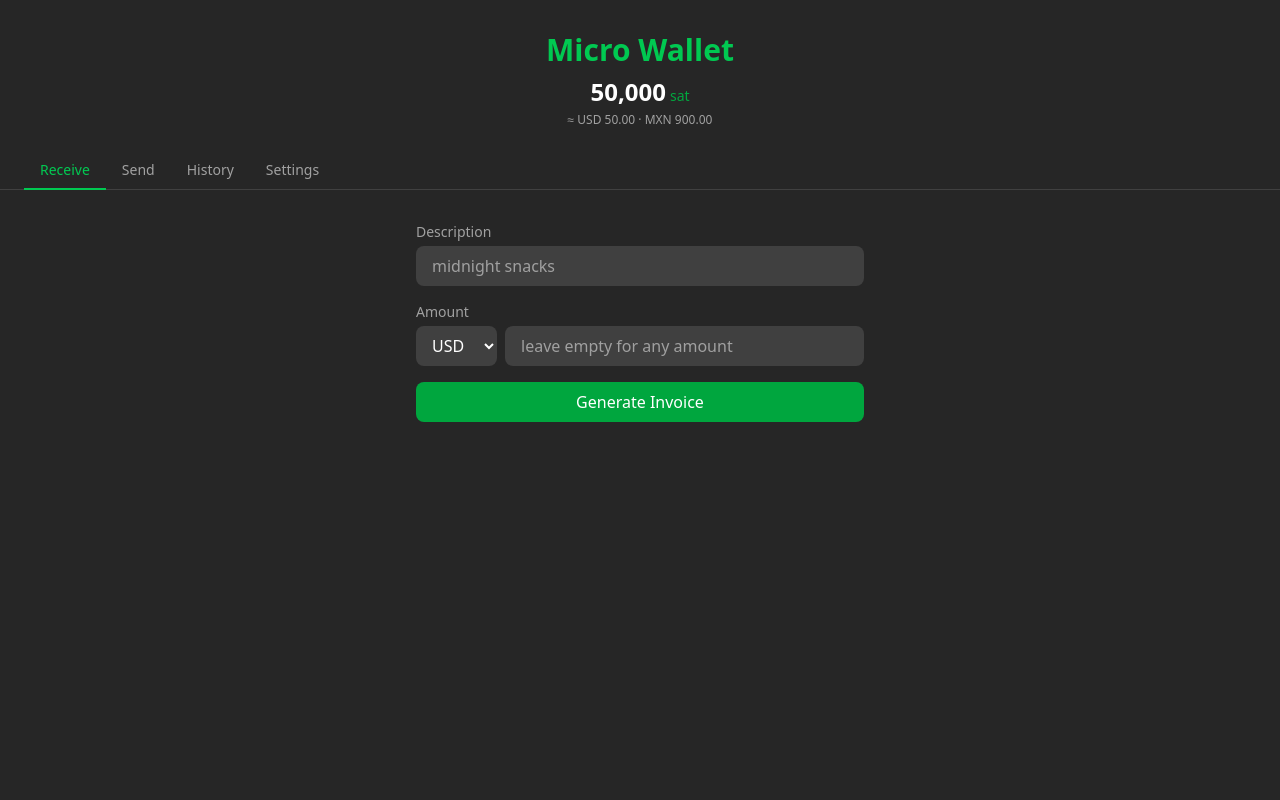
Test case: shows the updated balance after a payment is sent
Expected: the text "50,000" is shown, top-left (590, 75), bottom-right (666, 108)
Step 1. Click the button "Send" → (138, 171), box top-left (106, 152), bottom-right (171, 190)
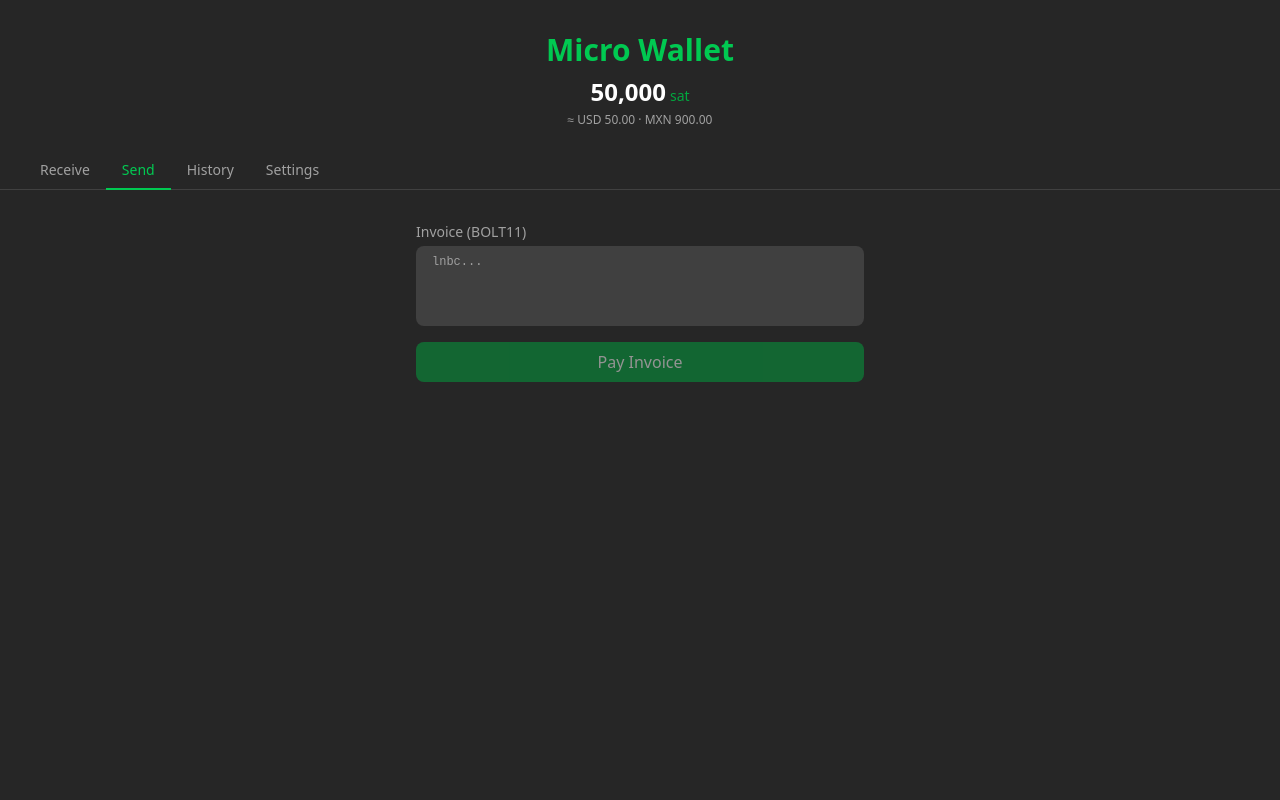
Step 2. Type "lnbc6434150p1p4v9t7fpp5trjlksghe25px06z96tc0svvt4qa30ye75k3s7l5tthmelfzgvvq" into the text box → (640, 286), box top-left (416, 246), bottom-right (864, 326)
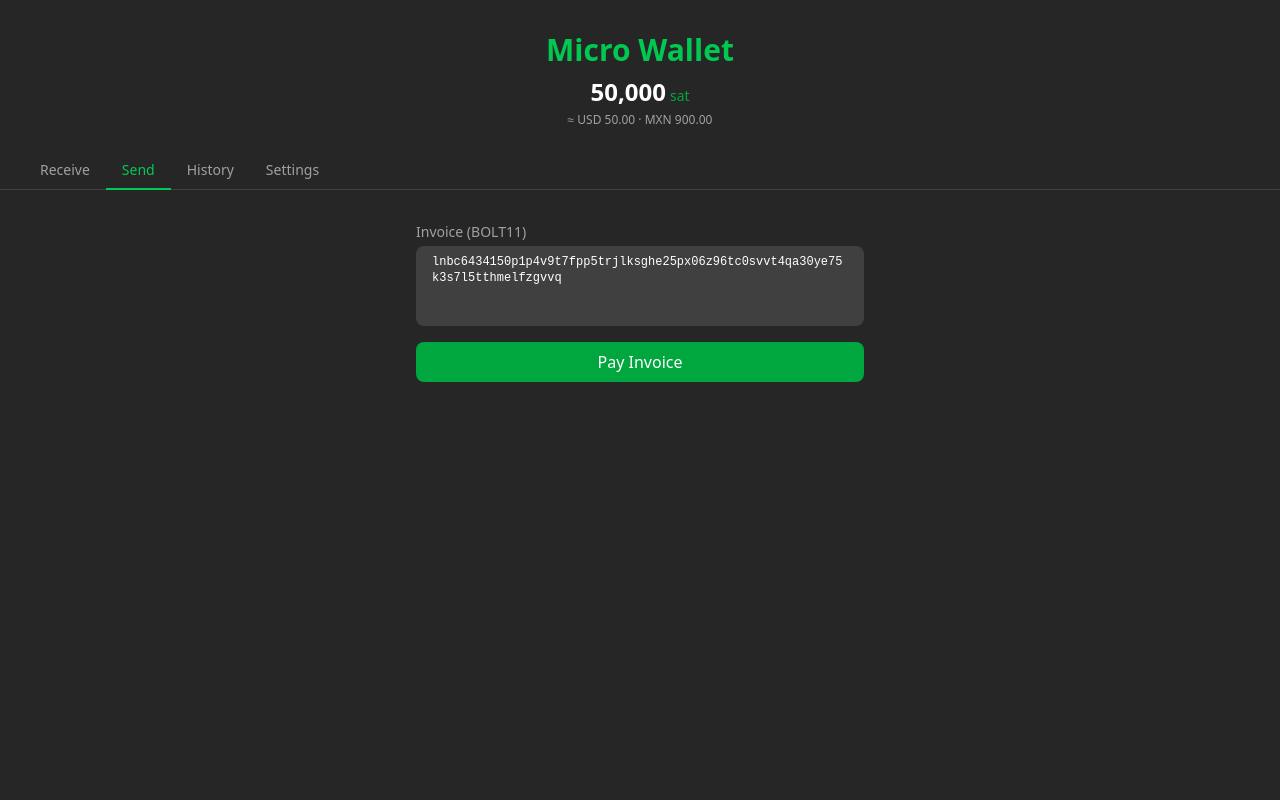
Step 3. Click the button "Pay Invoice" → (640, 362), box top-left (416, 342), bottom-right (864, 382)
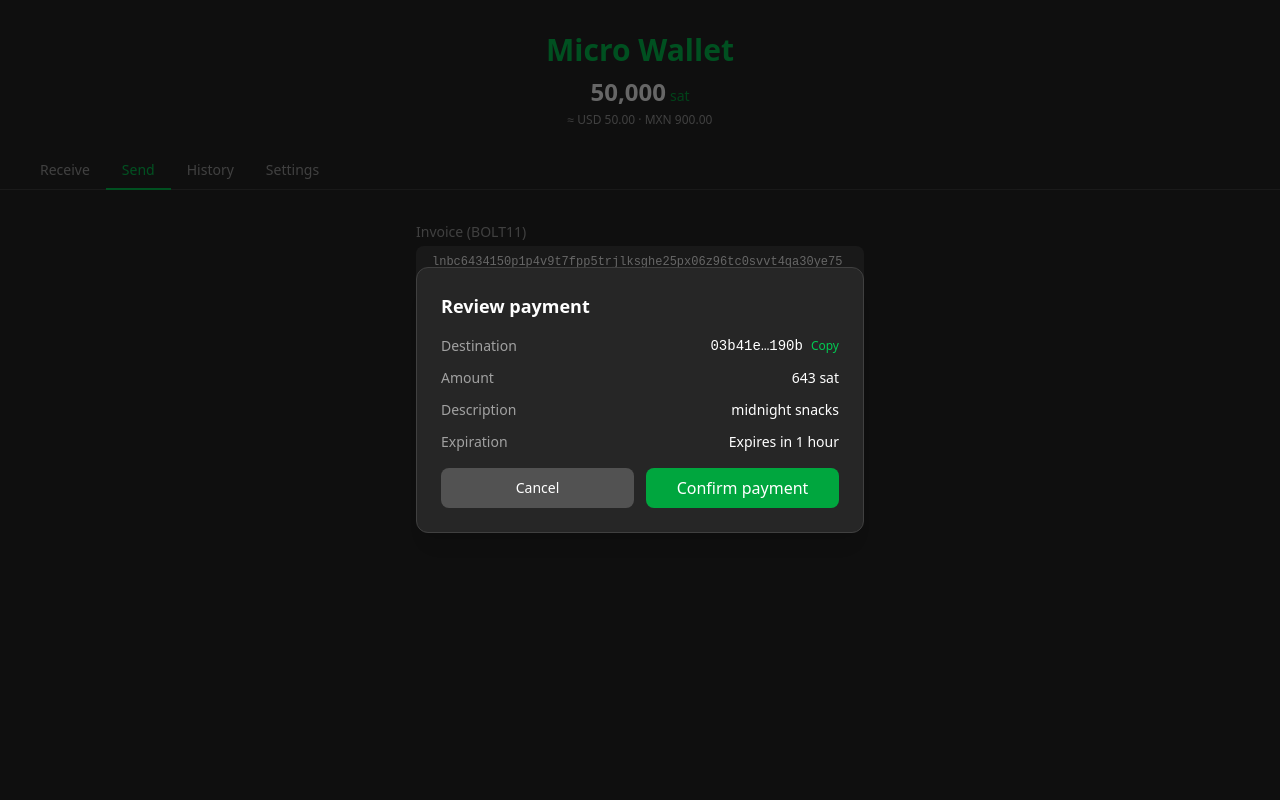
Step 4. Click the button "Confirm payment" → (742, 488), box top-left (646, 468), bottom-right (839, 508)
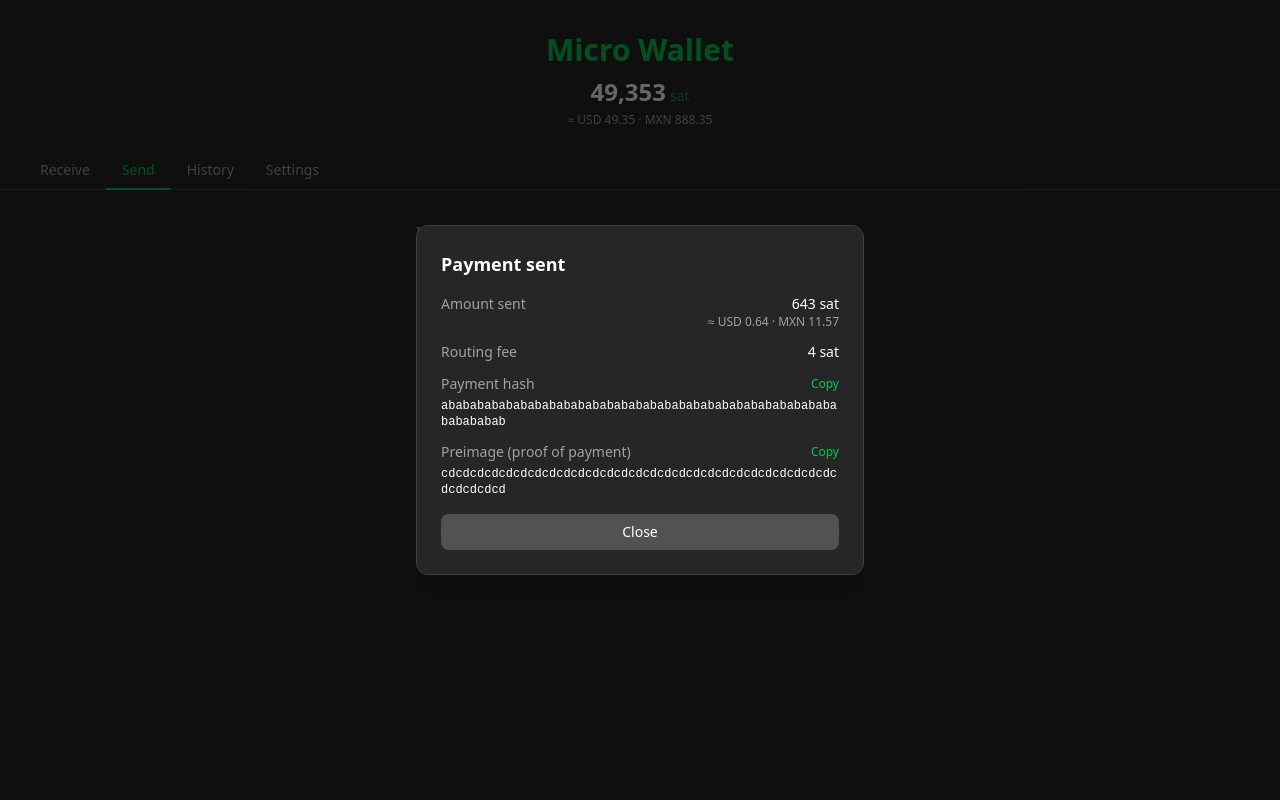
Now the text "49,353" is shown, box top-left (590, 75), bottom-right (666, 108)
